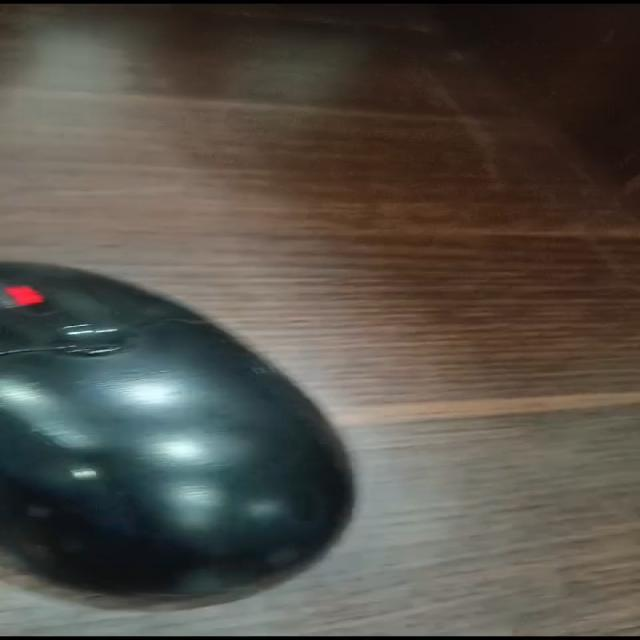mouse: (0, 204, 465, 618)
